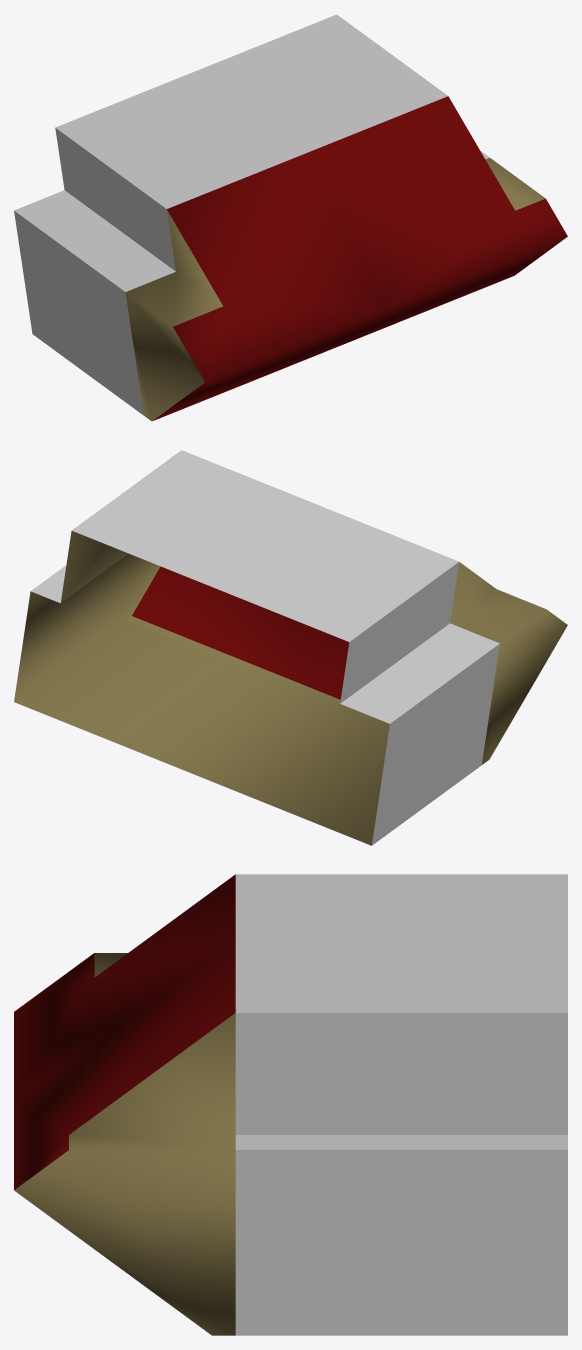
The model's file is Building1254_v3.obj.
The picture shows the model from 3 angles, top to bottom: view 1: azimuth 30°, elevation 25°; view 2: azimuth 150°, elevation 25°; view 3: azimuth 270°, elevation 25°; orthographic projection. The views are drawn at different scales.
Visible parts, largest first — view 1: Building1254; view 2: Building1254; view 3: Building1254.
Boxes of the visible parts, box(x1,y1,x2,y2) form: Building1254: box(14, 14, 567, 421); Building1254: box(14, 450, 567, 845); Building1254: box(14, 874, 567, 1335).
Bounding box in the file's own units: 14.8 × 9.11 × 12.5.
